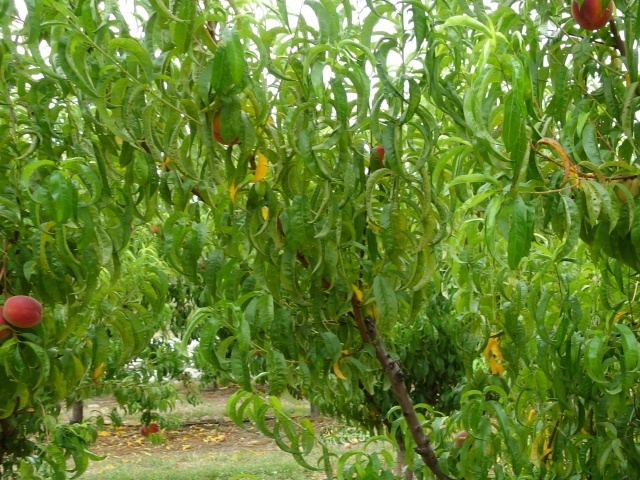peach: (2, 291, 46, 329), (565, 1, 617, 32), (206, 105, 241, 148), (450, 427, 474, 454)
